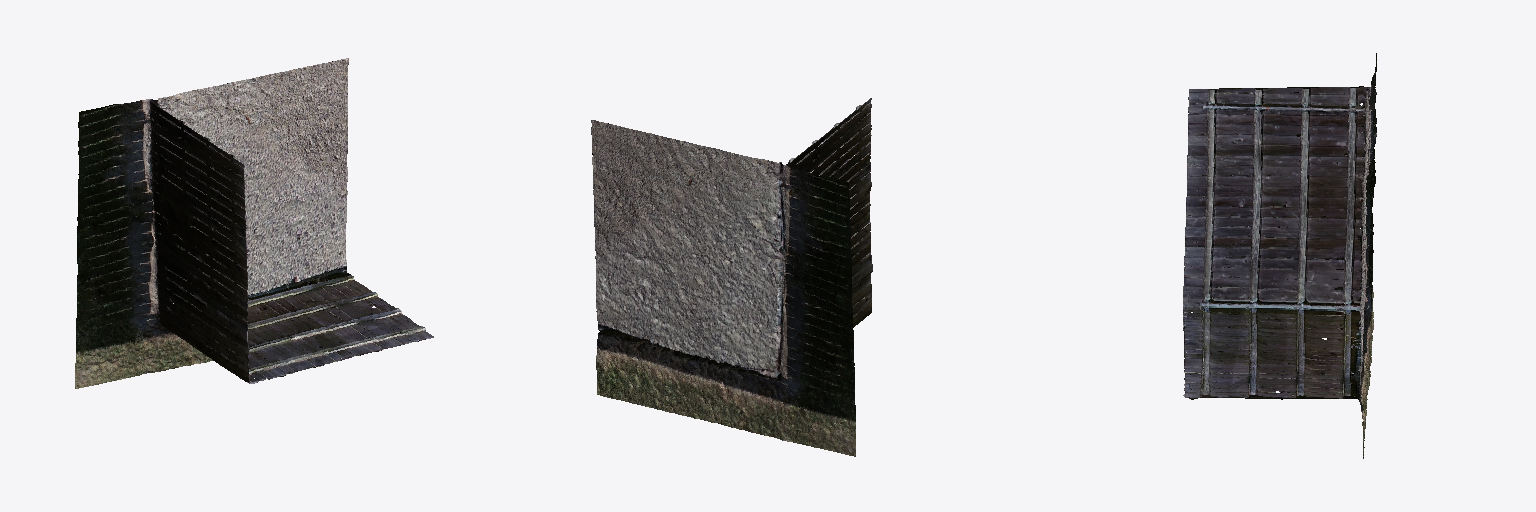
3 views of the same model, side by side, from view 1: azimuth 30°, elevation 25°; view 2: azimuth 150°, elevation 25°; view 3: azimuth 270°, elevation 25° (orthographic).
Bounding box in the file's own units: 3.94 × 3.92 × 2.47.
2 materials, 1 textured.